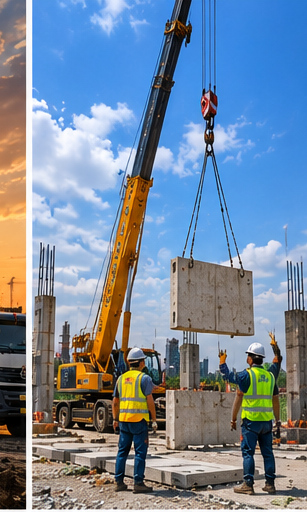crane: (58, 15, 251, 437)
hardhat: (124, 348, 153, 364), (246, 342, 268, 356)
person: (105, 340, 158, 495), (234, 343, 284, 495)
safety_vest: (115, 370, 156, 428), (245, 367, 277, 422)
